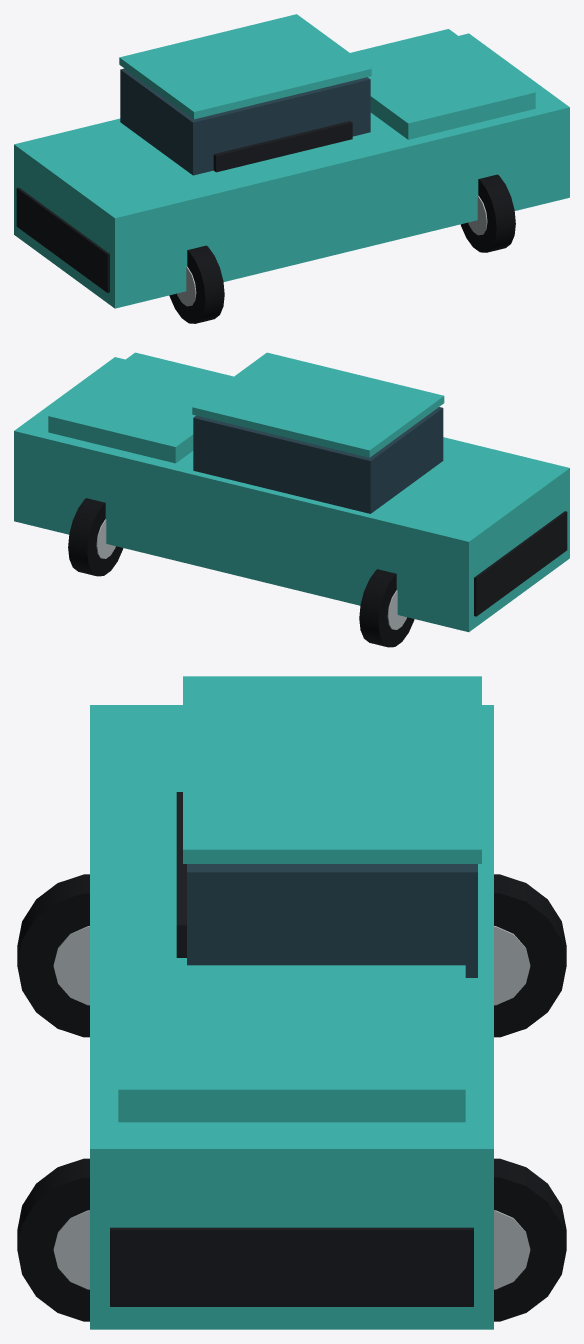
File: chevy_express_cargo.glb
3 renders of one model, top to bottom at view 1: azimuth 30°, elevation 25°; view 2: azimuth 150°, elevation 25°; view 3: azimuth 270°, elevation 25°, orthographic. The views are drawn at different scales.
Visible parts, largest first — view 1: body, roof, hood, cabin, rear_bumper, front_right_wheel, rear_right_wheel, interior; view 2: body, roof, cabin, hood, rear_bumper, front_left_wheel, rear_left_wheel; view 3: body, roof, hood, cabin, front_bumper, front_left_wheel, front_right_wheel, rear_left_wheel, rear_right_wheel, interior.
Boxes of the visible parts, <box> form: body: <box>14,33,569,308</box>; roof: <box>119,14,371,119</box>; hood: <box>350,29,535,139</box>; cabin: <box>120,68,370,175</box>; rear_bumper: <box>16,187,109,292</box>; front_right_wheel: <box>460,174,515,252</box>; rear_right_wheel: <box>169,245,224,323</box>; interior: <box>213,121,352,172</box>; body: <box>14,357,569,632</box>; roof: <box>192,352,444,457</box>; cabin: <box>193,407,443,513</box>; hood: <box>48,352,233,463</box>; rear_bumper: <box>474,511,567,616</box>; front_left_wheel: <box>68,498,123,576</box>; rear_left_wheel: <box>359,569,414,647</box>; body: <box>90,705,493,1329</box>; roof: <box>183,676,481,863</box>; hood: <box>118,965,465,1122</box>; cabin: <box>187,864,477,977</box>; front_bumper: <box>110,1227,473,1306</box>; front_left_wheel: <box>494,1158,566,1321</box>; front_right_wheel: <box>17,1158,89,1321</box>; rear_left_wheel: <box>494,874,566,1037</box>; rear_right_wheel: <box>17,874,89,1037</box>; interior: <box>176,792,186,957</box>.
Size of the model in its own units: 5.26 by 2.03 by 2.72.
